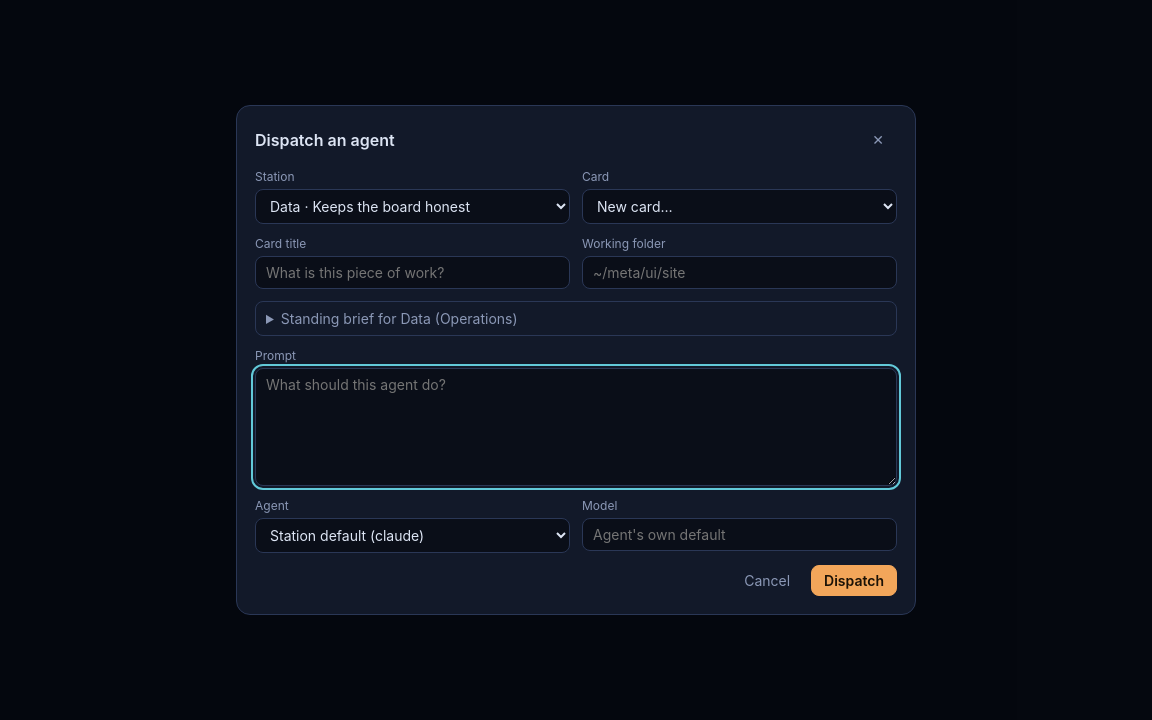
Test: DispatchDialog › requires a prompt
What coordinates should you click on to do the following:
click the button "Dispatch"
I would click on:
 (854, 580)
Its box is [811,565,897,596].
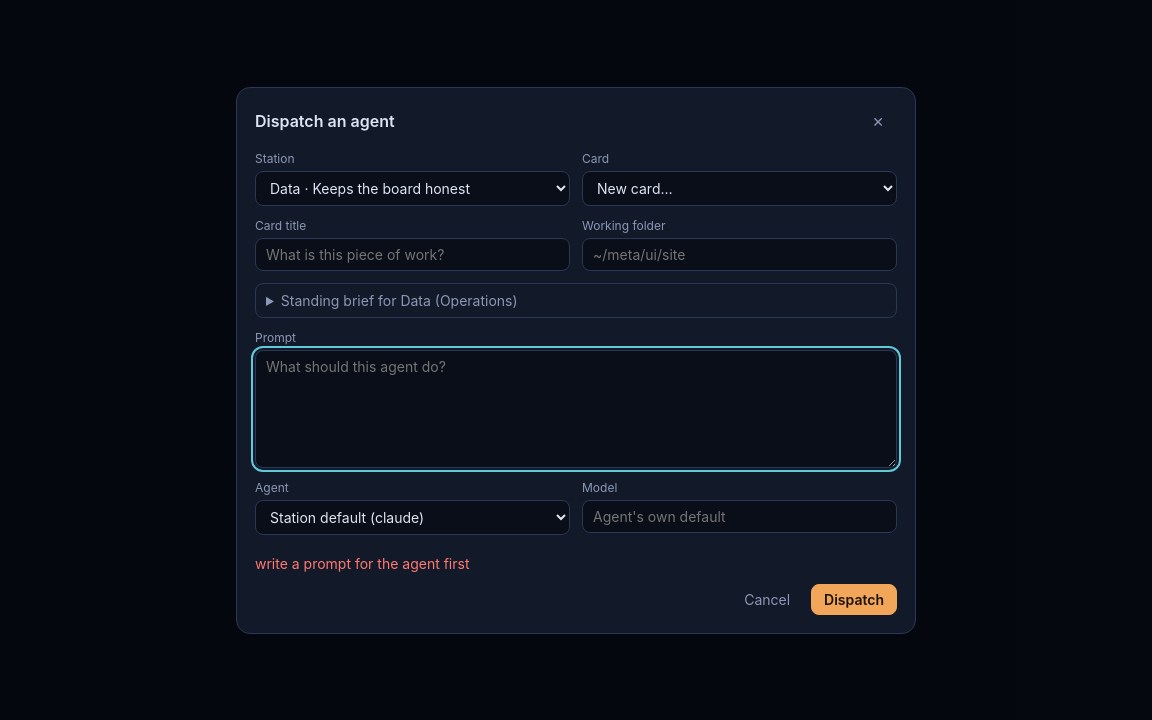
Now the text "write a prompt for the agent first" is shown, box [255,554,470,572]
